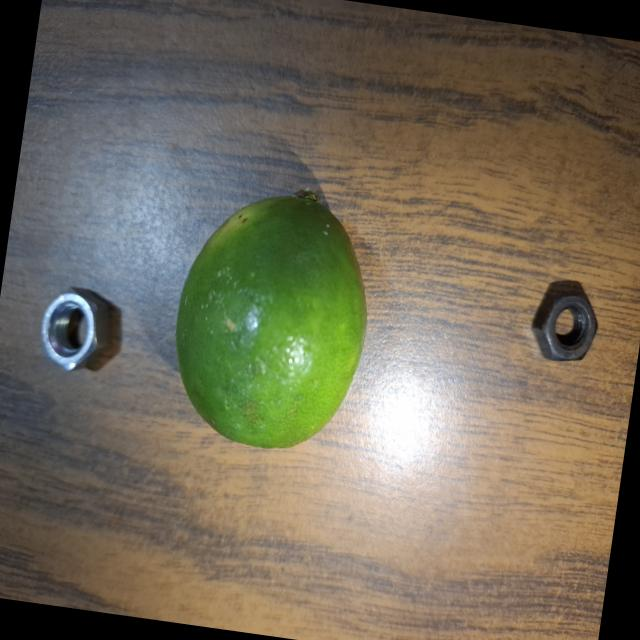limon: (160, 168, 384, 462)
milimetrico: (522, 282, 602, 366)
tuerca: (30, 276, 116, 386)
